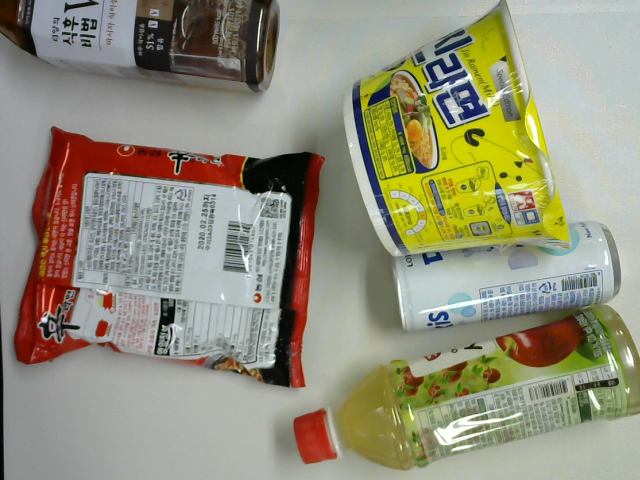Jinlamyeon_Mild_Taste_Large_Cup: (340, 1, 576, 262)
Milkies_250ml: (390, 218, 621, 337)
Morning_Apple_500ml: (290, 301, 640, 478)
Post-meal_recipe_W_tea_500ml: (1, 1, 276, 99)
Sinramen: (13, 125, 329, 392)
